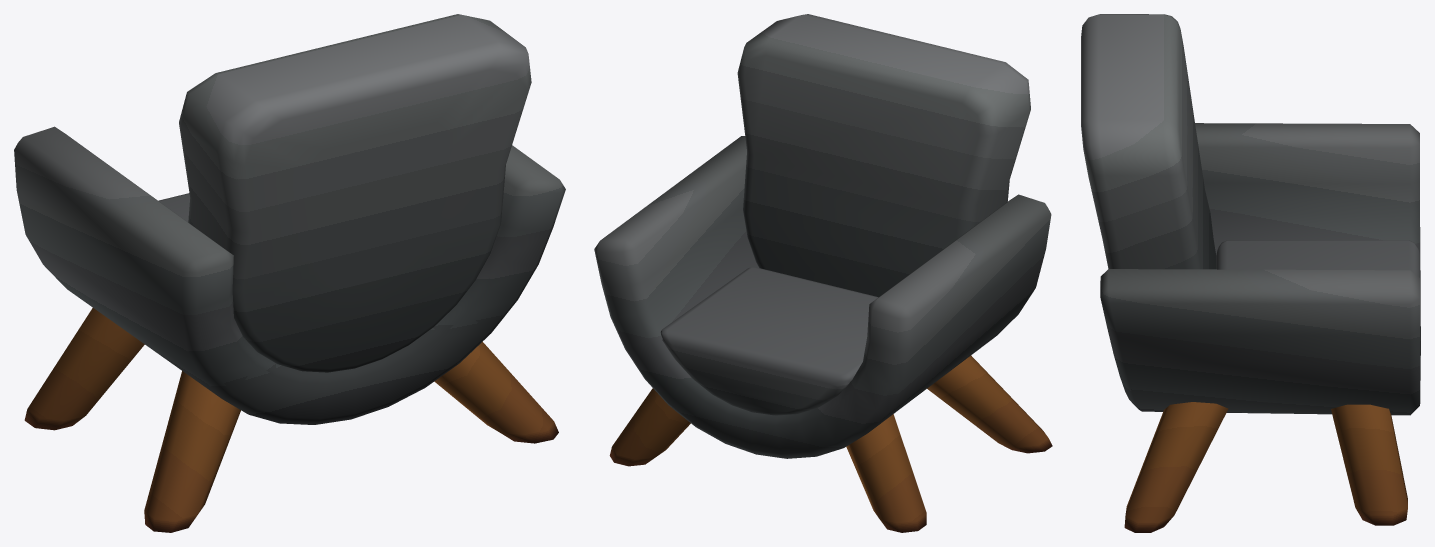
Rendered from Chair_Grey.fbx.
The picture shows the model from 3 angles, left to right: view 1: azimuth 30°, elevation 25°; view 2: azimuth 150°, elevation 25°; view 3: azimuth 270°, elevation 25°; orthographic projection. The views are drawn at different scales.
Visible parts, largest first — view 1: Chair; view 2: Chair; view 3: Chair.
Boxes of the visible parts, x1,y1,x2,y2 form: Chair: [14, 14, 565, 532]; Chair: [594, 14, 1052, 532]; Chair: [1081, 14, 1420, 532].
Bounding box in the file's own units: 93.55 × 94.76 × 76.57.
